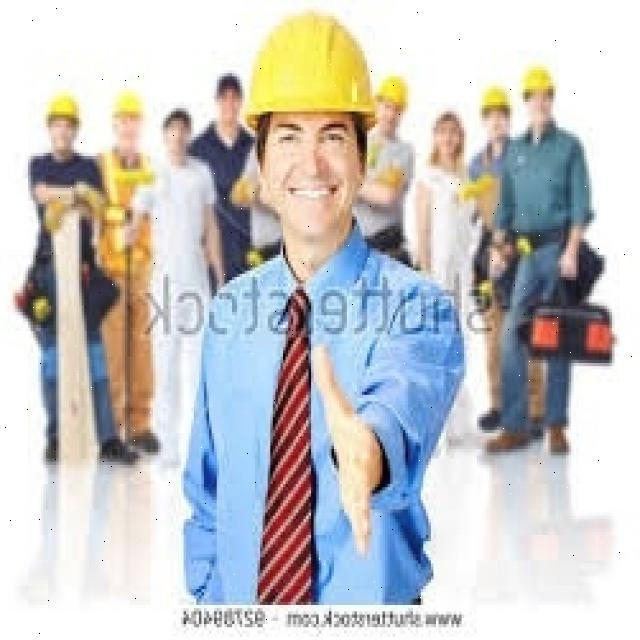Hard_hat: (240, 12, 380, 132), (41, 93, 81, 123), (108, 89, 142, 119), (519, 65, 557, 90), (377, 79, 411, 104), (479, 88, 510, 111)
